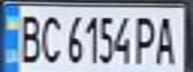1: (81, 12, 100, 64)
4: (112, 12, 136, 65)
5: (97, 12, 118, 64)
6: (63, 11, 84, 64)
A: (151, 11, 184, 66)
B: (12, 10, 45, 64)
C: (36, 11, 63, 64)
P: (133, 11, 160, 65)
